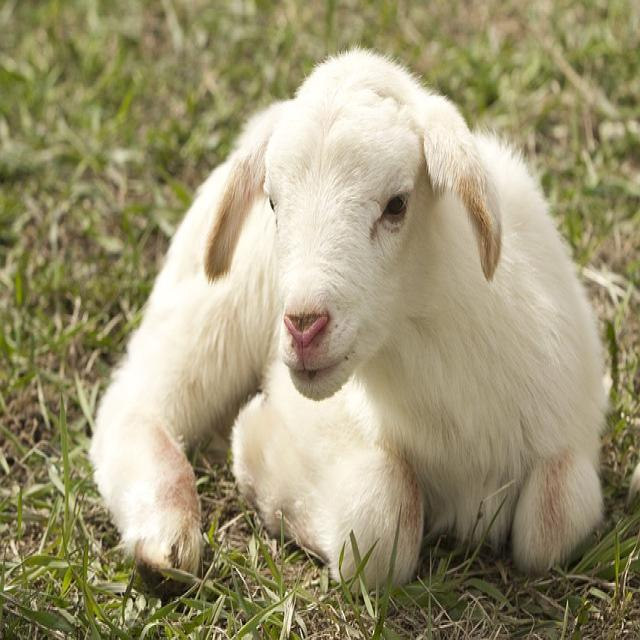goat: (88, 48, 610, 598)
